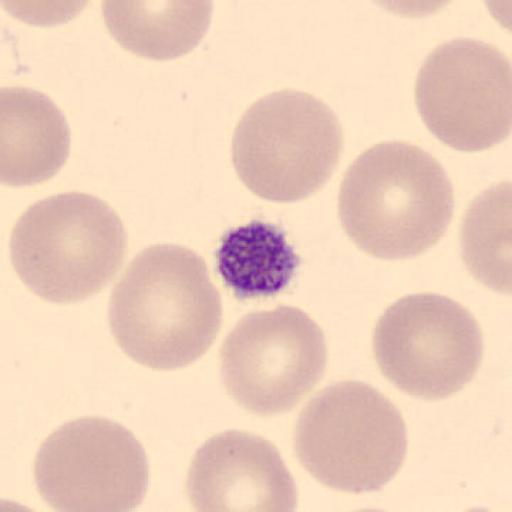Platelet: (213, 217, 305, 303)
RBC: (105, 240, 225, 374), (334, 138, 457, 263), (7, 189, 130, 307), (292, 377, 410, 497), (228, 86, 346, 206), (216, 303, 330, 418), (370, 291, 485, 402), (31, 413, 152, 512), (412, 35, 511, 154), (184, 427, 300, 512), (2, 83, 72, 189), (99, 0, 216, 63), (458, 178, 512, 295), (2, 0, 99, 30), (353, 0, 469, 21), (0, 495, 71, 512), (480, 0, 512, 34), (2, 495, 49, 512), (327, 503, 409, 512), (1, 493, 34, 512), (448, 503, 502, 512)
